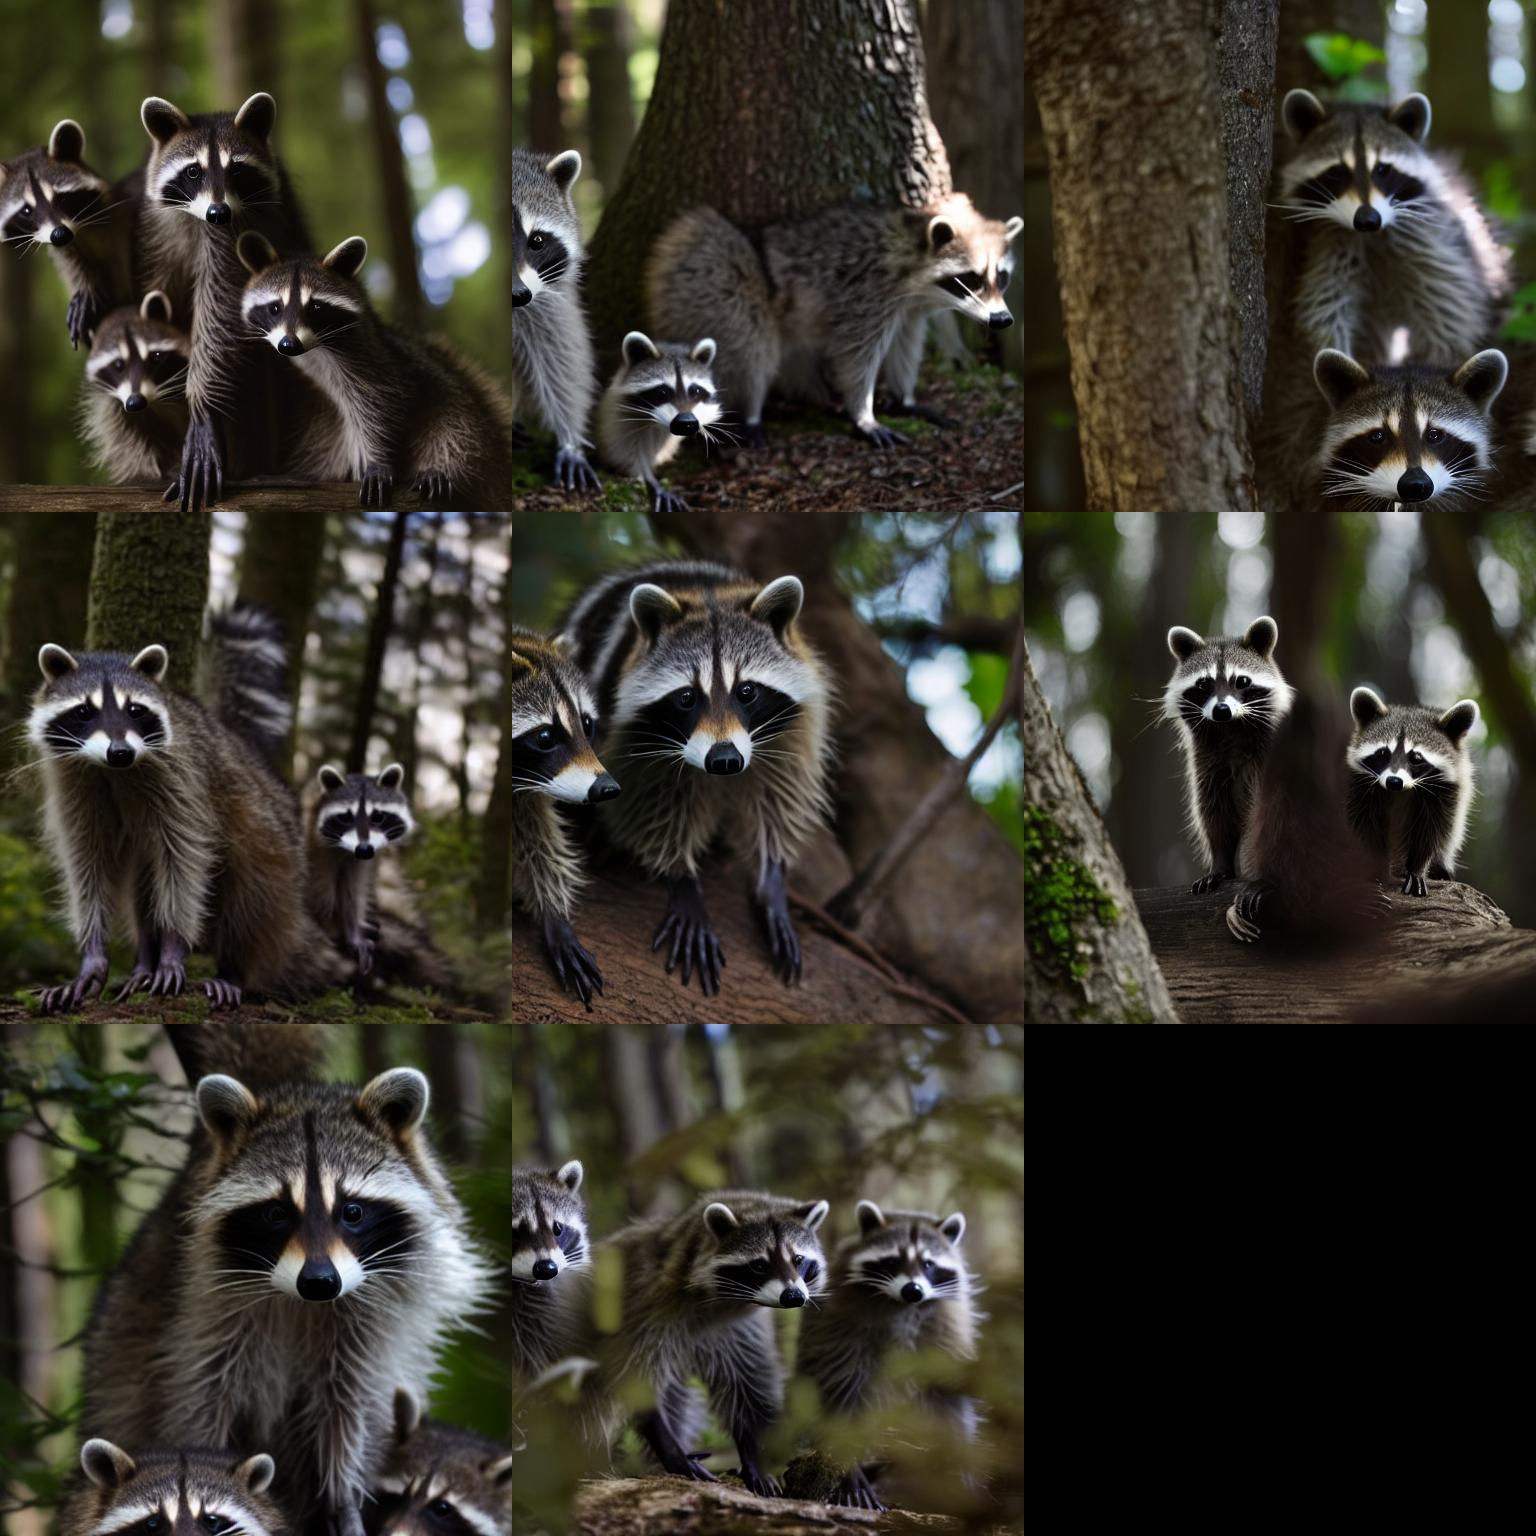raccoon: (84, 1049, 505, 1536), (565, 553, 848, 882), (17, 630, 286, 959), (640, 187, 1030, 409), (570, 1173, 848, 1443), (1270, 75, 1521, 364), (122, 84, 318, 443), (225, 218, 499, 467), (795, 1193, 994, 1477), (1277, 335, 1530, 508), (1325, 665, 1490, 878), (512, 623, 637, 888), (1145, 610, 1300, 823), (273, 750, 435, 933), (342, 1376, 522, 1536), (52, 1422, 302, 1536), (0, 110, 148, 302), (515, 135, 598, 457), (68, 293, 222, 443), (592, 322, 740, 470), (512, 1148, 608, 1376)
